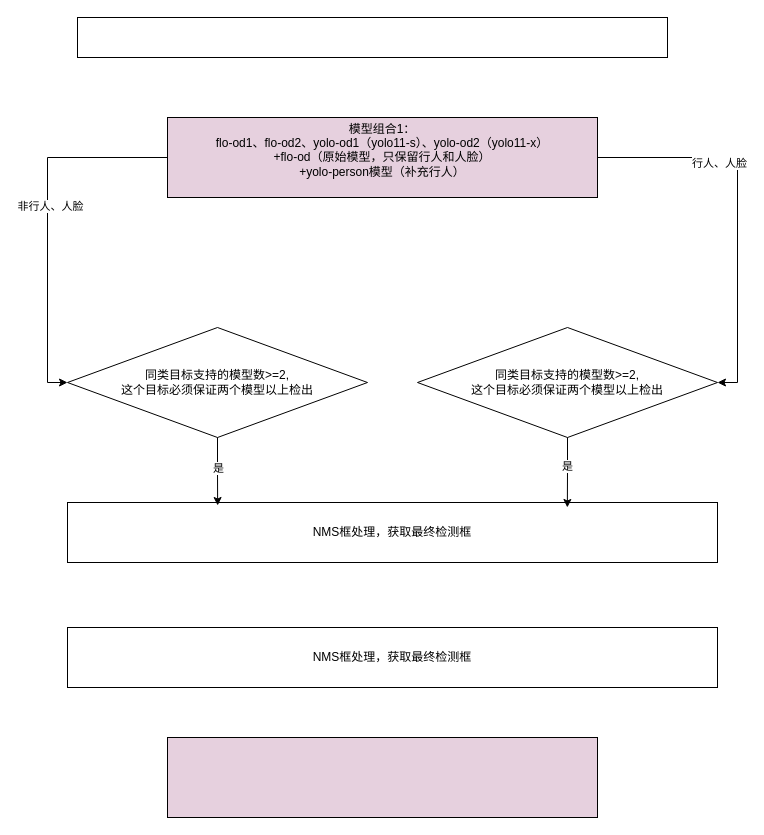
This 764x835 diagram has some shape labels left out. The centre of each missing label's shape, as x and y in pixels:
剩余数据补充标注: the point at 372,37
模型组合1： flo-vrd 、yolo-vrd: the point at 382,777
